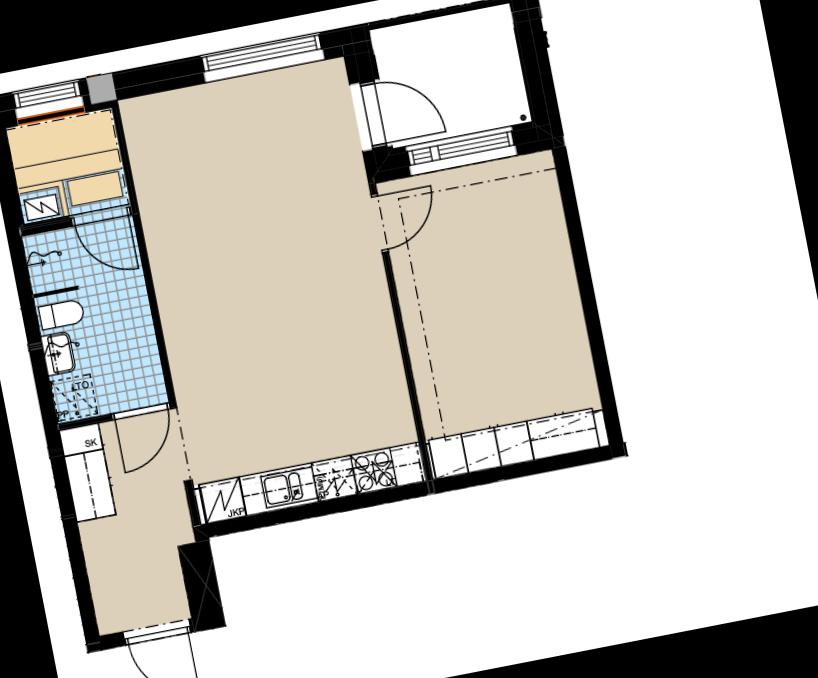door: (356, 68, 449, 151), (69, 202, 146, 286), (364, 178, 445, 256), (108, 399, 183, 476), (121, 612, 207, 678)
window: (192, 25, 330, 90), (401, 120, 523, 182), (6, 73, 95, 129)
